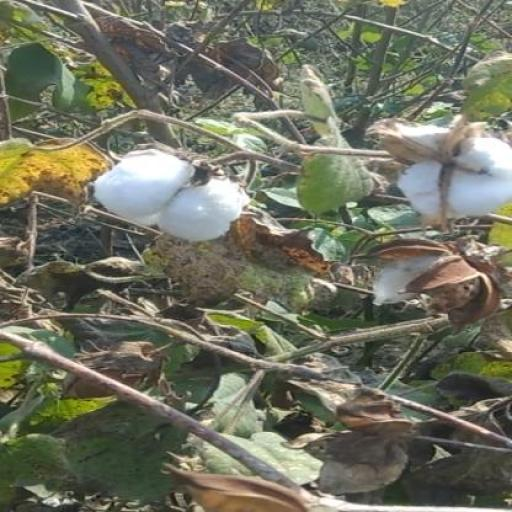cotton_ready: (66, 140, 260, 249)
